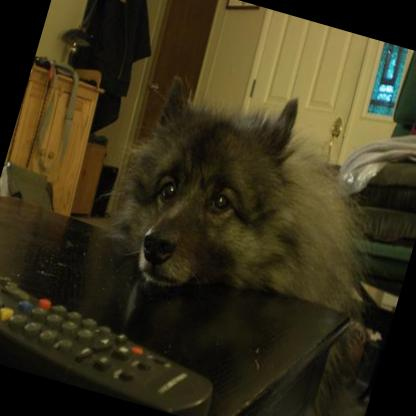keeshond: (59, 52, 416, 416)
